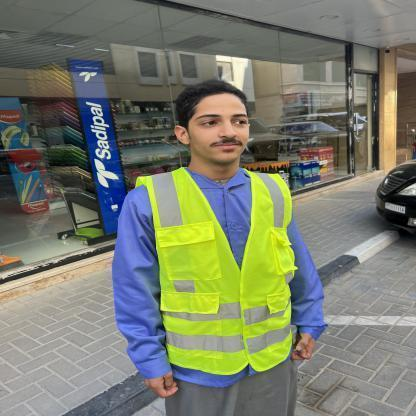vest: (155, 171, 304, 369)
